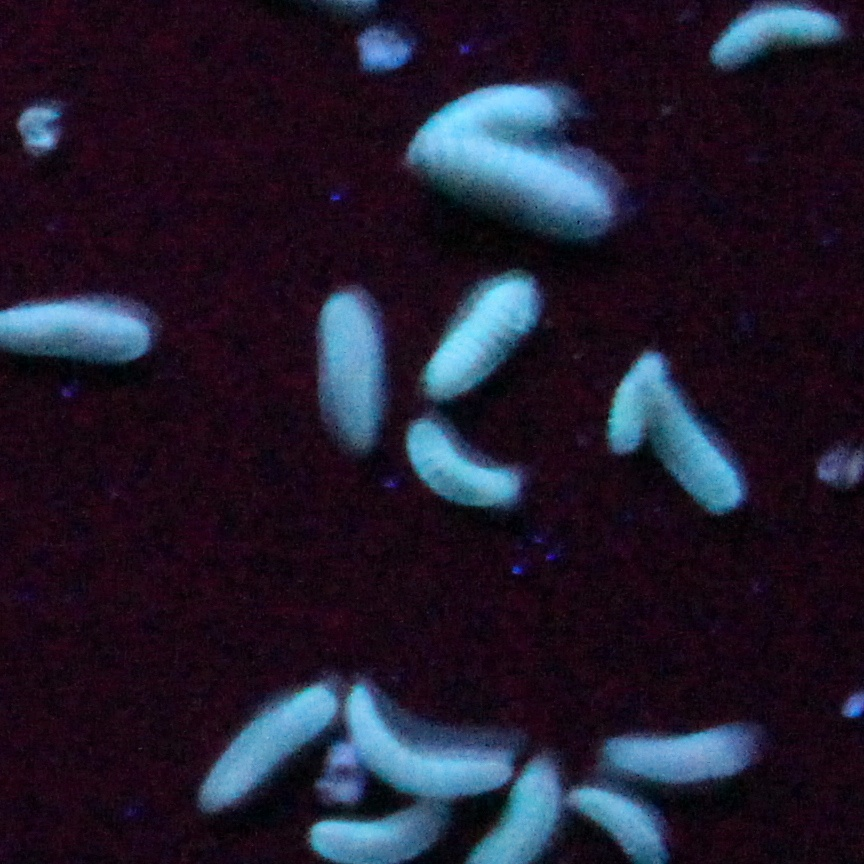larve: (200, 684, 339, 812), (347, 688, 508, 795), (425, 133, 604, 224), (425, 281, 534, 395), (647, 384, 739, 510), (407, 86, 555, 162), (407, 422, 518, 506), (320, 295, 380, 446), (609, 730, 752, 784), (713, 10, 838, 64), (610, 356, 666, 454)
